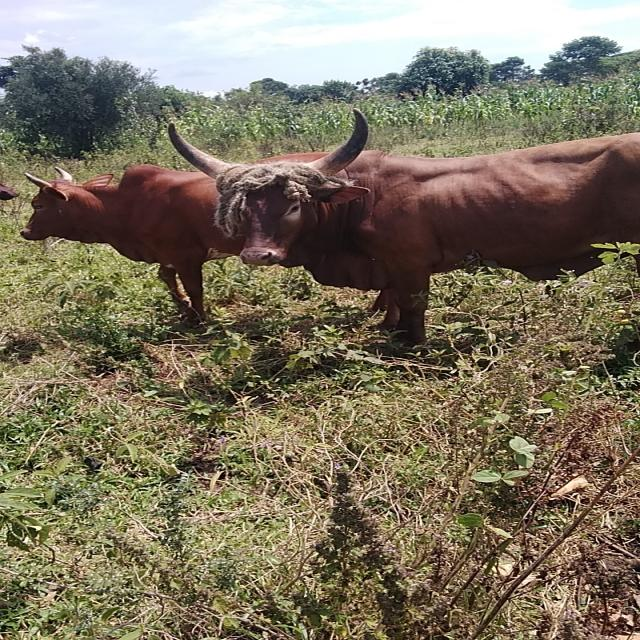cow: (132, 78, 640, 389)
